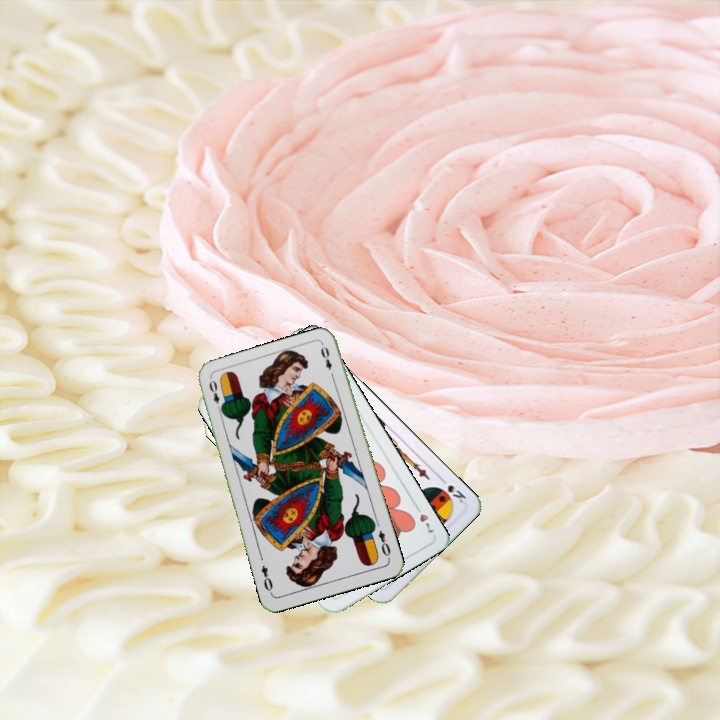EO: (205, 376, 226, 415), (374, 526, 393, 562)
H7: (410, 500, 437, 537)
SK: (436, 473, 469, 506)
